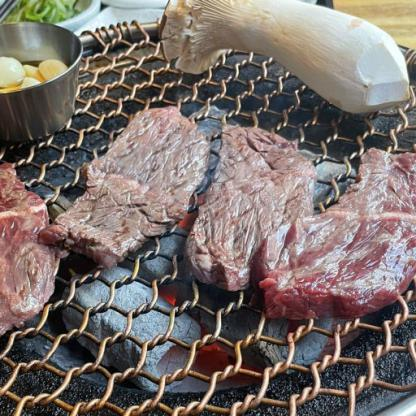Carne: (40, 98, 210, 263), (187, 116, 318, 288), (0, 156, 57, 316)
